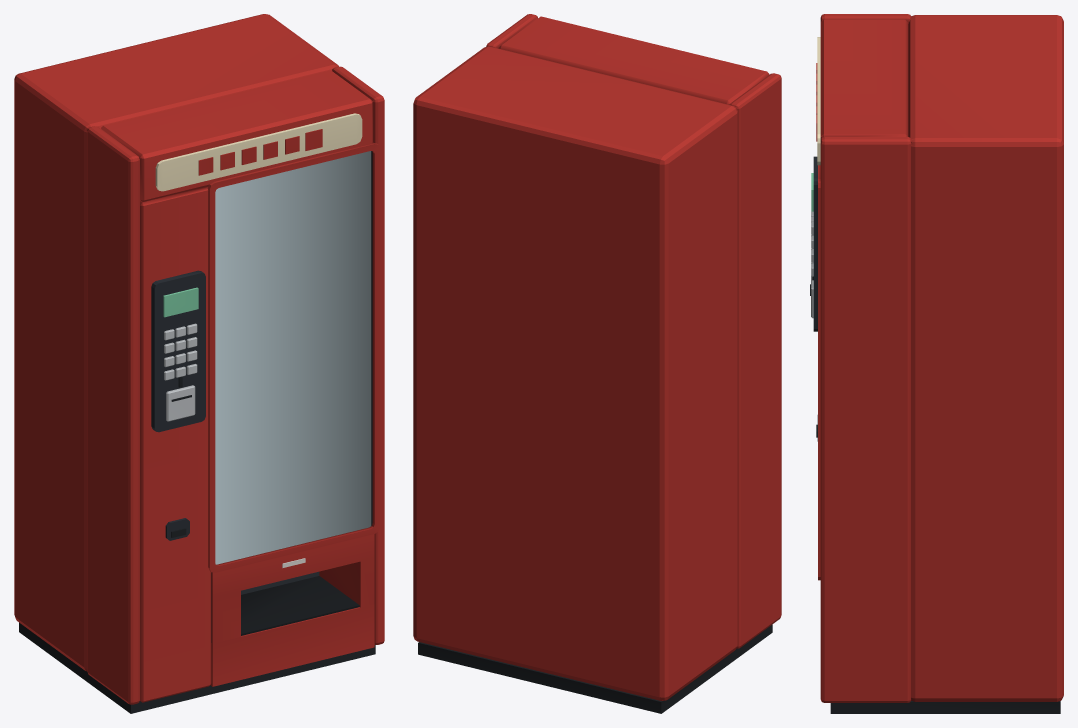
Rendered from vendingSnack.glb.
The picture shows the model from 3 angles, left to right: view 1: azimuth 30°, elevation 25°; view 2: azimuth 150°, elevation 25°; view 3: azimuth 270°, elevation 25°; orthographic projection. The views are drawn at different scales.
Parts seen in each view (by area): view 1: body; view 2: body; view 3: body.
Part boxes in pixels (box(x1,y1,x2,y2)): body: box(14, 14, 384, 713); body: box(413, 14, 781, 713); body: box(810, 14, 1063, 713).
Bounding box in the file's own units: 0.9 × 1.88 × 0.751.
